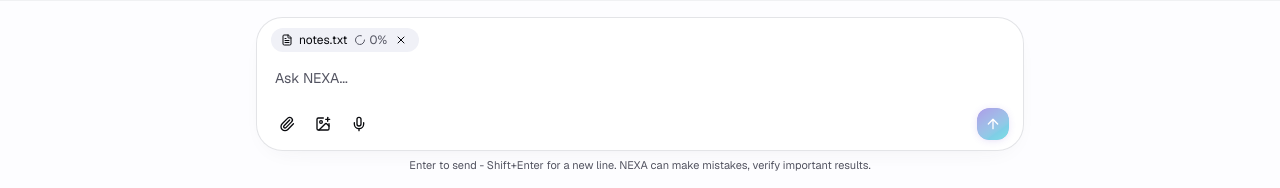
Scenario: Composer (input area) › disables Send while an attachment is still uploading
Earlier steps of the test are not shown.
Later steps or results of the test are not shown.
Check: the text "notes.txt" is shown, box [299,32,348,48]
Type "Please look at this" into the text box named "Message NEXA" at (640, 80), box [267,60,1013,100]
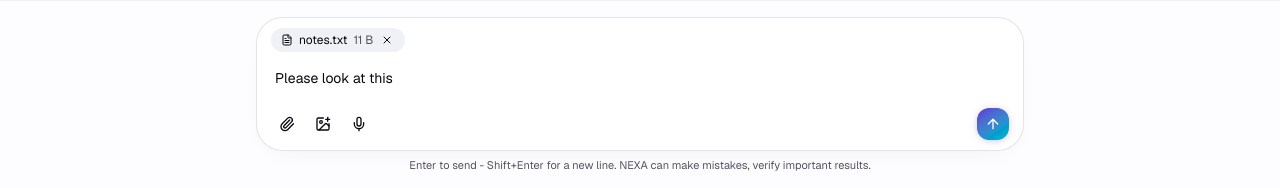
Check: the button named "Send message" is enabled, box [977,108,1009,140]
